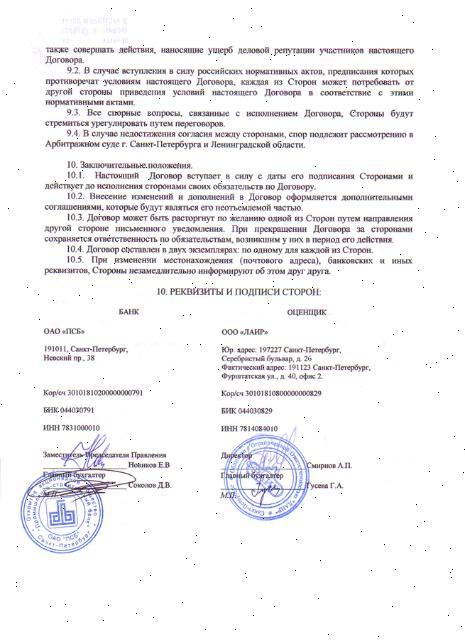stamp: (224, 434, 308, 520), (19, 472, 104, 554)
